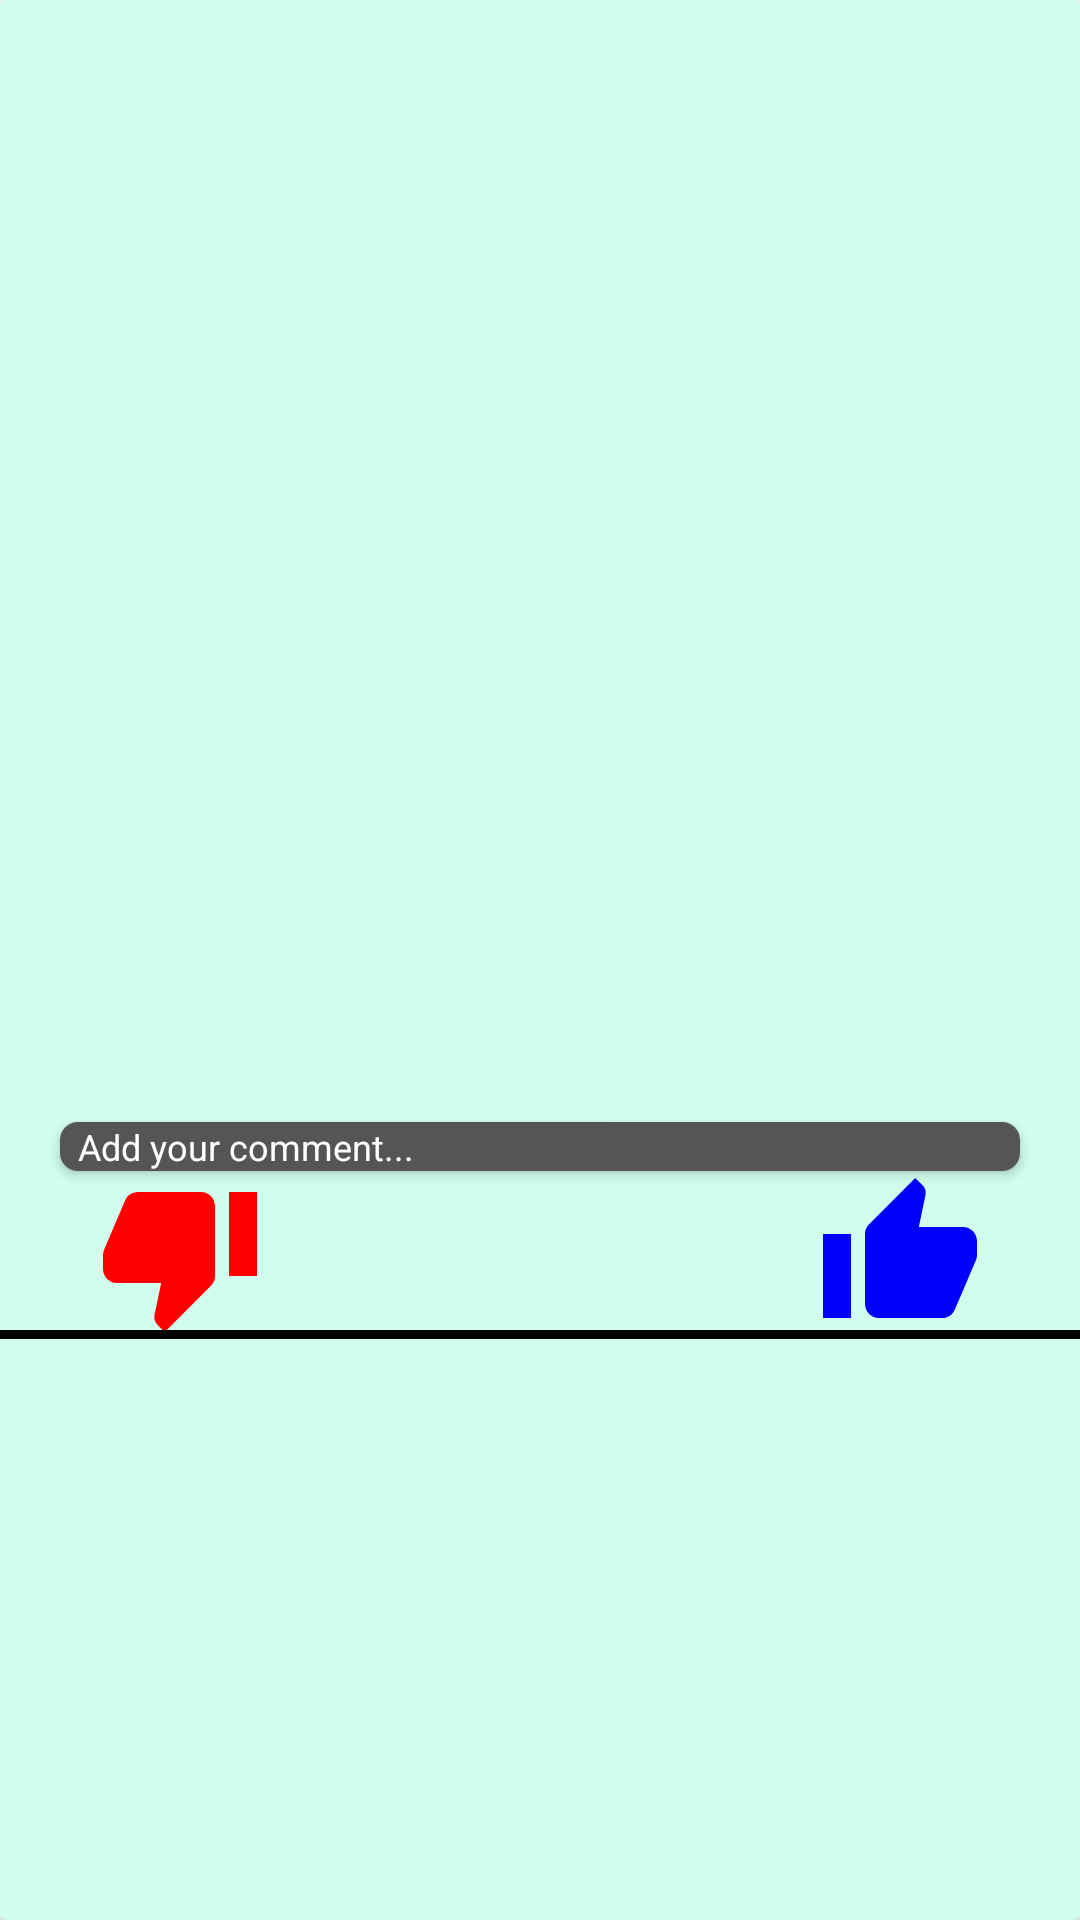

Where to tap for icons on this 1080 × 1920 app screen, as (x,y):
thumb up: (900,1248)
